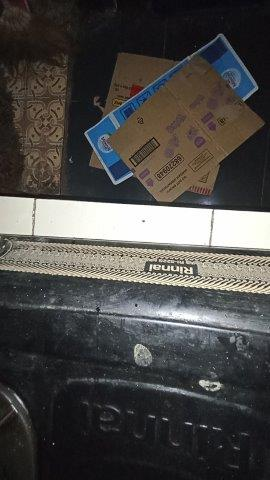kardus: (86, 35, 264, 202)
